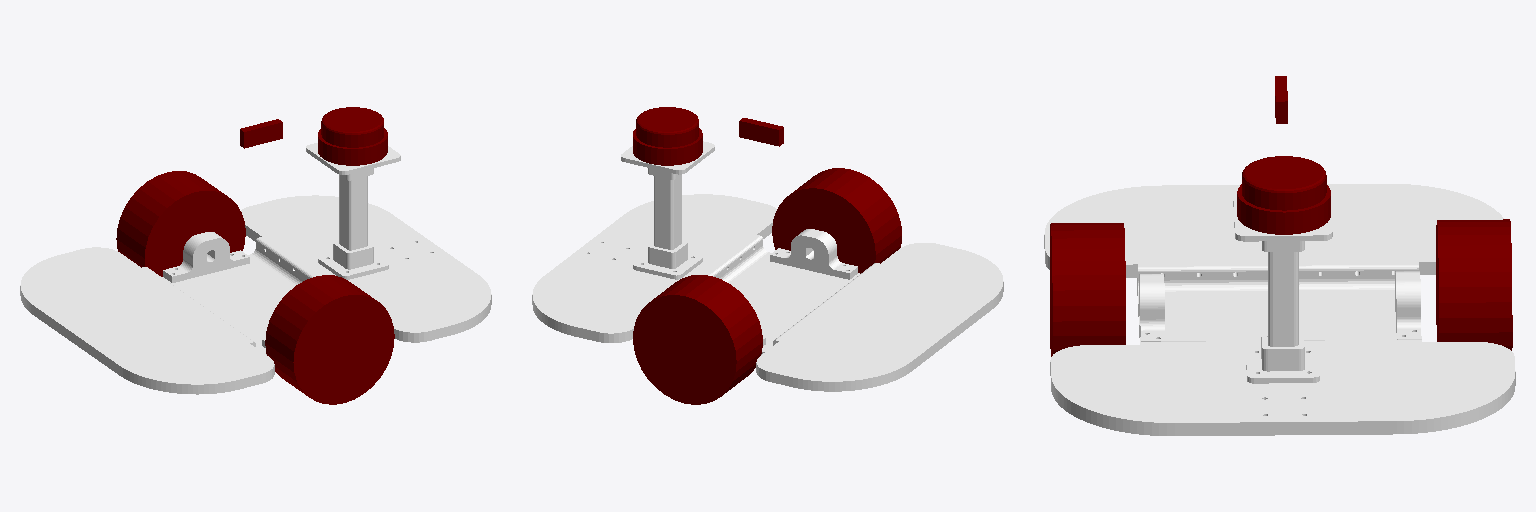
robot.urdf — robot_name:
<?xml version="1.0"?>	
<!-- =================================================================================== -->
<!-- |    This document was autogenerated by xacro from my_robo_simulation.xacro       | -->
<!-- |    EDITING THIS FILE BY HAND IS NOT RECOMMENDED                                 | -->
<!-- =================================================================================== -->
<robot name="robot_name">
  <!--===== Defining all colours here =====-->
  <material name="Orange">
    <color rgba="0.5 0.2 0.0 1"/>
  </material>
  <material name="Yellow">
    <color rgba="0.5 0.5 0.0 1"/>
  </material>
  <material name="Red">
    <color rgba="0.5 0.0 0.0 1"/>
  </material>
  <material name="Blue">
    <color rgba="0.0 0.0 0.4 1"/>
  </material>
  <material name="Green">
    <color rgba="0.0 0.4 0.0 1"/>
  </material>
  <material name="White">
    <color rgba="1 1 1 1"/>
  </material>
  <material name="grey">
    <color rgba="0.108 0.122 0.137 1"/>
  </material>
  <!--BASE FOOTPRINT-->
  <link name="base_footprint"/>
  <!--========================================== BASE LINK ==========================================-->
  <link name="base_link">
    <inertial>
      <origin xyz="0 0 0.033" rpy="0 0 0"/>
      <mass value="8.2573504e-01"/>
      <inertia ixx="2.2124416e-03" ixy="-1.2294101e-05" ixz="3.4938785e-05"
               iyy="2.1193702e-03" iyz="-5.0120904e-06"
               izz="2.0064271e-03" />
    </inertial>
    <visual>
      <origin rpy="0 0 0" xyz="0 0 0.033"/>
      <geometry>
        <mesh filename="package://robot/urdf/meshes/base.stl" scale="0.1 0.1 0.1"/>
      </geometry>
      <material name="White"/>
    </visual>
    <collision>
      <origin rpy="0 0 0" xyz="0 0 0.033"/>
      <geometry>
        <mesh filename="package://robot/urdf/meshes/base.stl" scale="0.1 0.1 0.1"/>
      </geometry>
    </collision>
  </link>
  <!--========================================== BASE JOINT ==========================================-->
  <joint name="base_joint" type="fixed">
    <origin rpy="0 0 0.02" xyz="0 0 0.0"/>
    <parent link="base_footprint"/>
    <child link="base_link"/>
    <axis xyz="0 0 0"/>
  </joint>
  <!--========================================== LEFT WHEEL LINK ==========================================-->
  <link name="left_wheel_link">
    <inertial>
      <origin xyz="0 0 0" />
      <mass value="2.8498940e-02" />
      <inertia ixx="1.1175580e-05" ixy="-4.2369783e-11" ixz="-5.9381719e-09"
               iyy="1.1192413e-05" iyz="-1.4400107e-11"
               izz="2.0712558e-05" />
      </inertial>
      <visual>
        <origin xyz="0 0 0" rpy="0 0 0" />
        <geometry>
          <cylinder length="0.06" radius="0.065" />
        </geometry>
        <material name="Red" />
      </visual>
      <collision>
        <origin xyz="0 0 0" rpy="0 0 0" />
        <geometry>
          <cylinder length="0.06" radius="0.065" />
        </geometry>
      </collision>
  </link>
  <gazebo reference="left_wheel_link">
    <mu1>0.9</mu1>
    <mu2>0.9</mu2>
    <kp>100000000</kp>
    <kd>1</kd>
    <minDepth>0.001</minDepth>
    <maxVel>0.1</maxVel>
    <fdir1>1 0 0</fdir1>
    <implicitSpringDamper>true</implicitSpringDamper>
    <material>Gazebo/FlatBlack</material>
  </gazebo>
  <!--========================================== LEFT WHEEL JOINT ==========================================-->
  <joint name="left_wheel_joint" type="continuous">
    <origin rpy="1.571 0.0 0" xyz="0.0 0.158075 0.065"/>
    <parent link="base_link"/>
    <child link="left_wheel_link"/>
    <axis xyz="0 0 -1"/>
    <limit effort="100.0" velocity="100.0"/>
    <joint_properties damping="0.0" fiction="0.0"/>
  </joint>
  <!--transmission name="left_wheel_trans" type="SimpleTransmission">
    <type>transmission_interface/SimpleTransmission</type>
    <actuator name="left_wheel_motor">
      <mechanicalReduction>1</mechanicalReduction>
    </actuator>
    <joint name="left_wheel_joint">
      <hardwareInterface>VelocityJointInterface</hardwareInterface>
    </joint>
  </transmission-->
  <!--========================================== RIGHT WHEEL LINK ==========================================-->
  <link name="right_wheel_link">
    <inertial>
      <origin xyz="0 0 0" />
      <mass value="2.8498940e-02" />
      <inertia ixx="1.1175580e-05" ixy="-4.2369783e-11" ixz="-5.9381719e-09"
               iyy="1.1192413e-05" iyz="-1.4400107e-11"
               izz="2.0712558e-05" />
      </inertial>
      <visual>
        <origin xyz="0 0 0" rpy="0 0 0" />
        <geometry>
          <cylinder length="0.06" radius="0.065" />
        </geometry>
        <material name="Red" />
      </visual>
      <collision>
        <origin xyz="0 0 0" rpy="0 0 0" />
        <geometry>
          <cylinder length="0.06" radius="0.065" />
        </geometry>
      </collision>
  </link>
  <gazebo reference="right_wheel_link">
    <mu1>0.9</mu1>
    <mu2>0.9</mu2>
    <kp>100000000</kp>
    <kd>1</kd>
    <minDepth>0.001</minDepth>
    <maxVel>0.1</maxVel>
    <fdir1>1 0 0</fdir1>
    <implicitSpringDamper>true</implicitSpringDamper>
    <material>Gazebo/FlatBlack</material>
  </gazebo>
  <!--========================================== RIGHT WHEEL JOINT ==========================================-->
  <joint name="right_wheel_joint" type="continuous">
    <origin rpy="-1.571 0.0 0" xyz="0.0 -0.158075 0.065"/>
    <parent link="base_link"/>
    <child link="right_wheel_link"/>
    <axis xyz="0 0 1"/>
    <limit effort="100.0" velocity="100.0"/>
    <joint_properties damping="0.0" fiction="0.0"/>
  </joint>
  <!--transmission name="right_wheel_trans" type="SimpleTransmission">
  <type>transmission_interface/SimpleTransmission</type>
  <actuator name="right_wheel_motor">
    <mechanicalReduction>1</mechanicalReduction>
  </actuator>
  <joint name="right_wheel_joint">
    <hardwareInterface>VelocityJointInterface</hardwareInterface>
  </joint>
</transmission-->
  <!--=============================================== FRONT CASTOR WHEEL LINK ===============================================-->
  <link name="front_castor_wheel_link">
    <collision>
      <origin xyz="0 0.025 0" rpy="0 0 0"/>
      <geometry>
        <box size="0.030 0.009 0.020"/>
      </geometry>
    </collision>

    <inertial>
      <origin xyz="0 0 0" />
      <mass value="0.005" />
      <inertia ixx="0.001" ixy="0.0" ixz="0.0"
               iyy="0.001" iyz="0.0"
               izz="0.001" />
    </inertial>
  </link>
  <gazebo reference="front_castor_wheel_link">
    <mu1>0.1</mu1>
    <mu2>0.1</mu2>
    <kp>1000000.0</kp>
    <kd>100.0</kd>
    <minDepth>0.001</minDepth>
    <maxVel>1.0</maxVel>
    <material>Gazebo/FlatBlack</material>
  </gazebo>
  <!--============================================ FRONT CASTOR WHEEL JOINT ============================================-->
  <joint name="front_castor_wheel_joint" type="fixed">
    <origin rpy="0.0 0.0 0.0" xyz="0.2 0.0 0.0252"/>
    <parent link="base_link"/>
    <child link="front_castor_wheel_link"/>
    <axis xyz="0 0 0"/>
  </joint>
  <!--=============================================== REAR CASTOR WHEEL LINK ===============================================-->
  <link name="rear_castor_wheel_link">
    <collision>
      <origin xyz="0 0.025 0" rpy="0 0 0"/>
      <geometry>
        <box size="0.030 0.009 0.020"/>
      </geometry>
    </collision>

    <inertial>
      <origin xyz="0 0 0" />
      <mass value="0.005" />
      <inertia ixx="0.001" ixy="0.0" ixz="0.0"
               iyy="0.001" iyz="0.0"
               izz="0.001" />
    </inertial>
  </link>
  <gazebo reference="rear_castor_wheel_link">
    <mu1>0.1</mu1>
    <mu2>0.1</mu2>
    <kp>1000000.0</kp>
    <kd>100.0</kd>
    <minDepth>0.001</minDepth>
    <maxVel>1.0</maxVel>
    <material>Gazebo/FlatBlack</material>
  </gazebo>
  <!--============================================ REAR CASTOR WHEEL JOINT ============================================-->
  <joint name="rear_castor_wheel_joint" type="fixed">
    <origin rpy="0.0 0.0 0.0" xyz="-0.2 0.0 0.0252"/>
    <parent link="base_link"/>
    <child link="rear_castor_wheel_link"/>
    <axis xyz="0 0 0"/>
  </joint>
  <!--========================================== LASER LINK ==========================================-->
  <link name="laser_link">
    <inertial>
      <mass value="0.114" />
      <origin xyz="0 0 0" />
      <inertia ixx="0.001" ixy="0.0" ixz="0.0"
               iyy="0.001" iyz="0.0"
               izz="0.001" />
    </inertial>
    <visual>
      <origin rpy="0 0 0" xyz="0 0 0"/>
      <geometry>
        <mesh filename="package://robot/urdf/meshes/ridar.stl" scale="0.1 0.1 0.1"/>
      </geometry>
      <material name="Red"/>
    </visual>
    <collision>
      <origin rpy="0 0 0" xyz="0 0 0"/>
      <geometry>
        <mesh filename="package://robot/urdf/meshes/ridar.stl" scale="0.1 0.1 0.1"/>
      </geometry>
    </collision>
  </link>
  <!--========================================== LASER JOINT ==========================================-->
  <joint name="laser_joint" type="fixed">
    <origin rpy="0.0 0.0 0" xyz="0.125 0.0 0.2"/>
    <parent link="base_link"/>
    <child link="laser_link"/>
    <axis xyz="0 0 0"/>
  </joint>

      <!--========================================== IMU LINK ==========================================-->
      <link name="imu_link">
        <inertial>
          <origin xyz="0 0 0" rpy="0 0 0" />
          <mass value="0.0093378" />
          <inertia ixx="0" ixy="0" ixz="0" iyy="0" iyz="0" izz="0" /> 
        </inertial>
        <visual>
          <origin xyz="0 0 0" rpy="0 0 0" />
          <geometry>
            <box size="0.05 0.01 0.02"/>
          </geometry>
          <material name="Red" />
        </visual>
        <collision>
          <origin xyz="0 0 0" rpy="0 0 0" />
          <geometry>
            <box size="0.05 0.01 0.02"/>
          </geometry>
        </collision>
      </link>
    
      <!--========================================== IMU JOINT ==========================================-->
      <joint name="imu_joint" type="fixed">
        <origin xyz="0.0075 0.0 0.25" rpy="0 0 3.14" />
        <parent link="base_link" />
        <child link="imu_link" />
        <axis xyz="0 0 0" />
      </joint>
      
  <!--============================================= IMU PLUGIN - GAZEBO =============================================-->
  <gazebo reference="imu_link">
    <gravity>true</gravity>
    <sensor name="imu_sensor" type="imu">
      <always_on>true</always_on>
      <update_rate>100</update_rate>
      <visualize>true</visualize>
      <topic>__default_topic__</topic>
      <plugin filename="libgazebo_ros_imu_sensor.so" name="imu_plugin">
        <topicName>imu_data</topicName>
        <bodyName>imu_link</bodyName>
        <updateRateHZ>10.0</updateRateHZ>
        <gaussianNoise>0.0</gaussianNoise>
        <xyzOffset>0 0 0</xyzOffset>
        <rpyOffset>0 0 0</rpyOffset>
        <frameName>imu_link</frameName>
        <initialOrientationAsReference>false</initialOrientationAsReference>
      </plugin>
      <pose>0 0 0 0 0 0</pose>
    </sensor>
  </gazebo>

  <!--========================================== DIFF DRIVE PLUGIN - GAZEBO ==========================================-->

	<gazebo>
	  <plugin name="differential_drive_controller" filename="libgazebo_ros_diff_drive.so">
		<!-- Plugin update rate in Hz -->
		<updateRate>10</updateRate>
		<!-- Name of left joint, defaults to `left_joint` -->
		<leftJoint>left_wheel_joint</leftJoint>
		<!-- Name of right joint, defaults to `right_joint` -->
		<rightJoint>right_wheel_joint</rightJoint>
		<!-- The distance from the center of one wheel to the other, in meters, defaults to 0.34 m -->
		<wheelSeparation>0.23</wheelSeparation>
		<!-- Diameter of the wheels, in meters, defaults to 0.15 m -->
		<wheelDiameter>0.085</wheelDiameter>
		<!-- Wheel acceleration, in rad/s^2, defaults to 0.0 rad/s^2 -->
		<wheelAcceleration>0.75</wheelAcceleration>
		<!-- Maximum torque which the wheels can produce, in Nm, defaults to 5 Nm -->
		<wheelTorque>500</wheelTorque>
		<!-- Topic to receive geometry_msgs/Twist message commands, defaults to `cmd_vel` -->
		<commandTopic>cmd_vel</commandTopic>
		<!-- Topic to publish nav_msgs/Odometry messages, defaults to `odom` -->
		<odometryTopic>odom_diff_drive</odometryTopic>
		<!-- Odometry frame, defaults to `odom` -->
		<odometryFrame>odom_diff_drive</odometryFrame>
		<!-- Robot frame to calculate odometry from, defaults to `base_footprint` -->
		<robotBaseFrame>base_footprint</robotBaseFrame>
		<!-- Odometry source, 0 for ENCODER, 1 for WORLD, defaults to WORLD -->
		<odometrySource>1</odometrySource>
		<!-- Set to true to publish transforms for the wheel links, defaults to false -->
		<publishWheelTF>false</publishWheelTF>
		<!-- Set to true to publish transforms for the odometry, defaults to true -->
		<publishOdom>true</publishOdom>
		<publishOdomTF>false</publishOdomTF>
		<!--publishTF>false</publishTF-->

		<!-- Set to true to publish sensor_msgs/JointState on /joint_states for the wheel joints, defaults to false -->
		<publishWheelJointState>false</publishWheelJointState>
		<!-- Set to true to swap right and left wheels, defaults to true -->
		<legacyMode>false</legacyMode>
	  </plugin>
	</gazebo>



  <!--========================================== LIDAR PLUGIN - GAZEBO ==========================================-->
  <!--Sample size of 4000 (original value of RPLidarA1M8) gives an error-->
  <gazebo reference="laser_link">
      <!--sensor type="gpu_ray" name="laser"-->
      <sensor type="ray" name="laser">
          <pose>0 0 0 0 0 0</pose>
          <visualize>true</visualize>
          <update_rate>40</update_rate>
          <ray>
              <scan>
                  <horizontal>
                      <samples>720</samples>
                      <resolution>1</resolution>
                      <min_angle>0</min_angle>
                      <max_angle>6.28</max_angle>
                  </horizontal>
              </scan>
              <range>
                  <min>0.1</min>
                  <max>6</max>
                  <resolution>0.1</resolution>
              </range>
          </ray>
          <!--plugin name="gpu_laser" filename="libgazebo_ros_gpu_laser.so"-->
          <plugin name="gpu_laser" filename="libgazebo_ros_laser.so">
              <topicName>/scan</topicName>
              <frameName>laser_link</frameName>
          </plugin>
      </sensor>
  </gazebo>




  <!--========================================== JOINT STATE PUBLISHER PLUGIN - GAZEBO ==========================================-->
     <!--gazebo>
        <plugin name="joint_state_publisher"
                filename="libgazebo_ros_joint_state_publisher.so">
            <jointName>left_wheel_joint, right_wheel_joint, castor_wheel_joint</jointName>
        </plugin>
    </gazebo-->


</robot>

--- What the picture shows (computed from the rendered views, not written in the file) ---
3 views of the same robot in one strip: view 1: azimuth 30°, elevation 25°; view 2: azimuth 150°, elevation 25°; view 3: azimuth 270°, elevation 25° (orthographic).
Robot: robot_name — 8 links, 7 joints (2 continuous, 5 fixed); root link base_footprint; default pose: all joints at 0.
Visible links, largest first — view 1: base_link, right_wheel_link, left_wheel_link, laser_link, imu_link; view 2: base_link, left_wheel_link, right_wheel_link, laser_link, imu_link; view 3: base_link, right_wheel_link, left_wheel_link, laser_link, imu_link.
Boxes of the visible links, box(x1,y1,x2,y2) form: base_link: box(20, 143, 491, 394); right_wheel_link: box(265, 275, 394, 404); left_wheel_link: box(116, 171, 245, 276); laser_link: box(318, 107, 387, 165); imu_link: box(240, 119, 282, 148); base_link: box(532, 141, 1003, 391); left_wheel_link: box(633, 275, 762, 404); right_wheel_link: box(772, 168, 901, 273); laser_link: box(633, 107, 702, 165); imu_link: box(739, 118, 783, 146); base_link: box(1044, 184, 1515, 435); right_wheel_link: box(1050, 223, 1125, 356); left_wheel_link: box(1436, 219, 1512, 350); laser_link: box(1237, 156, 1330, 234); imu_link: box(1275, 76, 1287, 123).
Size in the robot's own frame: 0.4635 by 0.3854 by 0.26 metres.
Meshes: 2 distinct files referenced, 2 mesh visuals loaded (2 binary STL).
